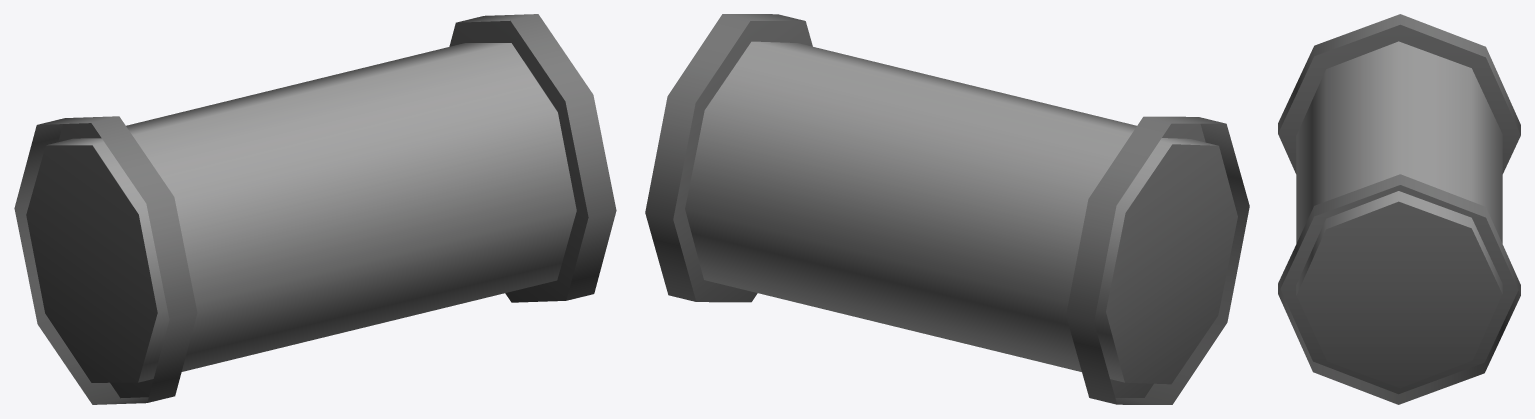
The model's file is Pipe_Ground.glb.
3 renders of one model, left to right at view 1: azimuth 30°, elevation 25°; view 2: azimuth 150°, elevation 25°; view 3: azimuth 270°, elevation 25°, orthographic. The views are drawn at different scales.
Visible parts, largest first — view 1: Pipe_Ground; view 2: Pipe_Ground; view 3: Pipe_Ground.
Part boxes in pixels (<box>): Pipe_Ground: <box>14,14,616,404</box>; Pipe_Ground: <box>645,14,1249,404</box>; Pipe_Ground: <box>1278,14,1520,404</box>.
Size of the model in its own units: 0.5 by 0.3004 by 0.3004.
Materials: 1 (1 with a texture image).
